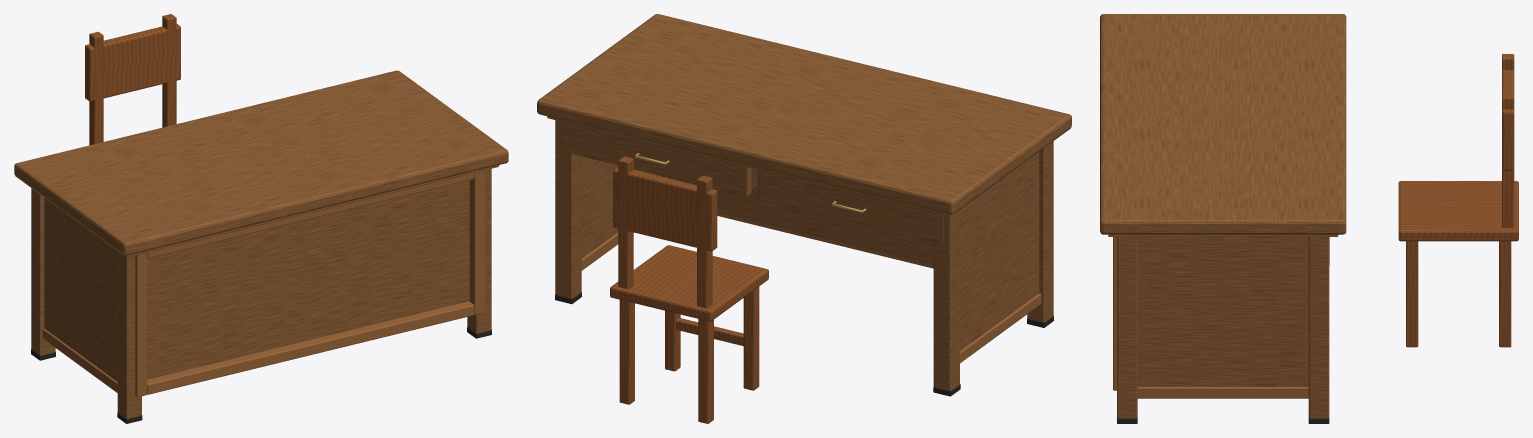
Rendered from teacher_set.glb.
The picture shows the model from 3 angles, left to right: view 1: azimuth 30°, elevation 25°; view 2: azimuth 150°, elevation 25°; view 3: azimuth 270°, elevation 25°; orthographic projection. The views are drawn at different scales.
Visible parts, largest first — view 1: TeacherDesk_Thick_Desktop, TeacherDesk_Recessed_Front_Panel, TeacherDesk_Full_Side_Panel, TeacherDesk_Front_Frame_Rail, TeacherChair_Backrest, TeacherDesk_Square_Leg, TeacherDesk_Square_Leg.001, TeacherDesk_Front_Frame_Rail.001, TeacherDesk_Front_Frame_Stile.001, TeacherDesk_Front_Frame_Stile, TeacherDesk_Square_Leg.002, TeacherChair_Back_Post (+3 smaller); view 2: TeacherDesk_Thick_Desktop, TeacherDesk_Full_Side_Panel, TeacherChair_Seat, TeacherChair_Backrest, TeacherDesk_Drawer_Front, TeacherDesk_Drawer_Front.001, TeacherDesk_Recessed_Front_Panel, TeacherDesk_Square_Leg.001, TeacherDesk_Square_Leg.003, TeacherDesk_Full_Side_Panel.001, TeacherDesk_Square_Leg, TeacherChair_Back_Post.001 (+9 smaller); view 3: TeacherDesk_Thick_Desktop, TeacherDesk_Full_Side_Panel.001, TeacherChair_Seat, TeacherDesk_Square_Leg.003, TeacherDesk_Square_Leg.002, TeacherDesk_Side_Lower_Rail.001, TeacherChair_Leg.003, TeacherChair_Leg.002, TeacherChair_Backrest, TeacherChair_Back_Post.001, TeacherDesk_Desktop_Under_Rim, TeacherDesk_Front_Frame_Stile.001.
Boxes of the visible parts, box(x1,y1,x2,y2) form: TeacherDesk_Thick_Desktop: box(14, 70, 508, 255); TeacherDesk_Recessed_Front_Panel: box(147, 180, 469, 379); TeacherDesk_Full_Side_Panel: box(44, 198, 117, 381); TeacherDesk_Front_Frame_Rail: box(147, 301, 474, 394); TeacherChair_Backrest: box(85, 24, 180, 101); TeacherDesk_Square_Leg: box(117, 251, 141, 418); TeacherDesk_Square_Leg.001: box(31, 188, 55, 355); TeacherDesk_Front_Frame_Rail.001: box(147, 173, 474, 258); TeacherDesk_Front_Frame_Stile.001: box(469, 170, 484, 314); TeacherDesk_Front_Frame_Stile: box(135, 253, 146, 397); TeacherDesk_Square_Leg.002: box(467, 168, 491, 333); TeacherChair_Back_Post: box(89, 31, 103, 145); TeacherDesk_Thick_Desktop: box(537, 14, 1071, 214); TeacherDesk_Full_Side_Panel: box(960, 152, 1039, 350); TeacherChair_Seat: box(610, 245, 768, 321); TeacherChair_Backrest: box(613, 167, 717, 251); TeacherDesk_Drawer_Front: box(758, 169, 943, 244); TeacherDesk_Drawer_Front.001: box(561, 121, 751, 196); TeacherDesk_Recessed_Front_Panel: box(669, 177, 933, 264); TeacherDesk_Square_Leg.001: box(933, 210, 959, 391); TeacherDesk_Square_Leg.003: box(555, 120, 581, 298); TeacherDesk_Full_Side_Panel.001: box(581, 156, 660, 258); TeacherDesk_Square_Leg: box(1027, 141, 1053, 322); TeacherChair_Back_Post.001: box(618, 156, 633, 289); TeacherDesk_Thick_Desktop: box(1100, 14, 1346, 234); TeacherDesk_Full_Side_Panel.001: box(1137, 237, 1308, 386); TeacherChair_Seat: box(1398, 181, 1518, 241); TeacherDesk_Square_Leg.003: box(1308, 237, 1329, 418); TeacherDesk_Square_Leg.002: box(1117, 237, 1137, 418); TeacherDesk_Side_Lower_Rail.001: box(1137, 387, 1308, 398); TeacherChair_Leg.003: box(1499, 241, 1511, 347); TeacherChair_Leg.002: box(1406, 241, 1418, 347); TeacherChair_Backrest: box(1502, 70, 1514, 170); TeacherChair_Back_Post.001: box(1502, 93, 1514, 227); TeacherDesk_Desktop_Under_Rim: box(1108, 234, 1338, 236); TeacherDesk_Front_Frame_Stile.001: box(1113, 237, 1116, 390).
Size of the model in its own units: 1.8 by 1.01 by 1.53.
6 materials, 2 textured.
